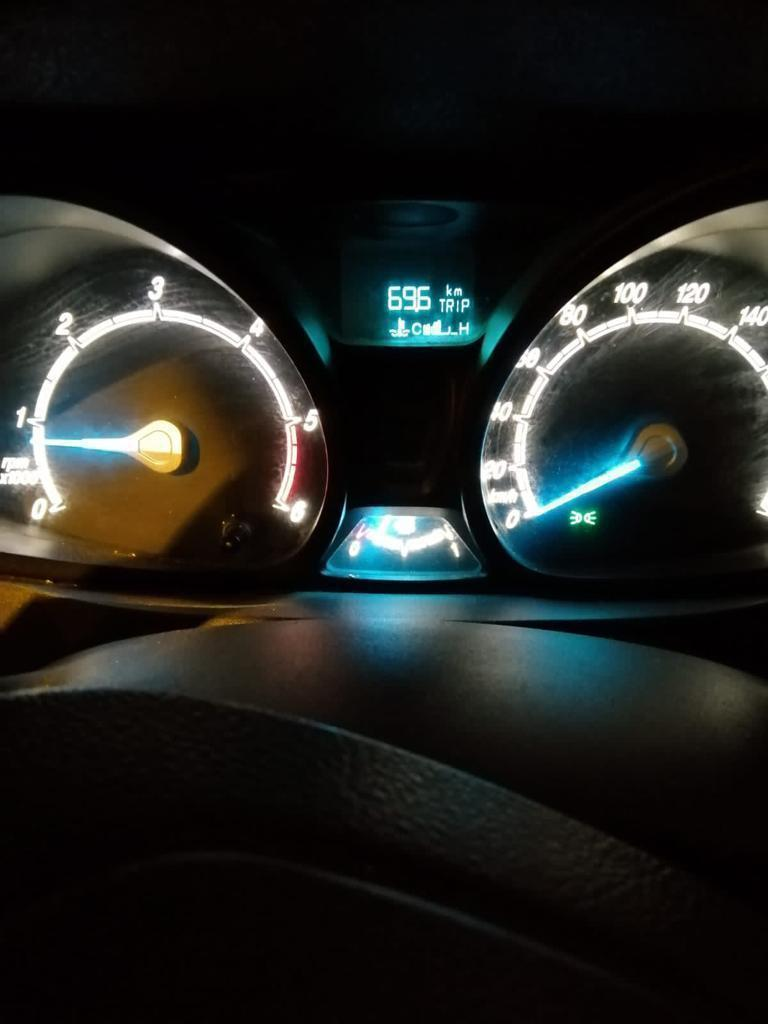,: (415, 307, 419, 314)
6: (387, 284, 402, 311), (417, 284, 431, 310)
9: (402, 284, 417, 310)
X: (458, 320, 470, 336), (410, 320, 422, 336), (460, 297, 471, 313), (445, 297, 454, 313), (444, 282, 452, 297), (439, 296, 445, 313), (453, 287, 462, 296), (456, 298, 459, 313)
odometer: (340, 269, 486, 346)
